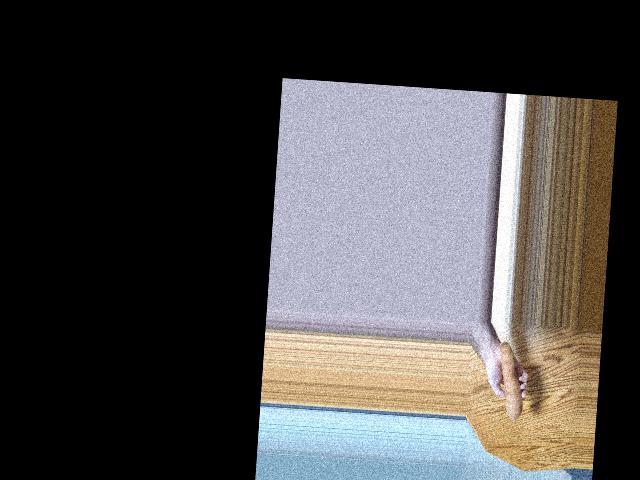sweet_potato: (492, 345, 530, 424)
